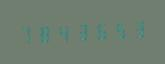eight: (35, 22, 52, 45)
five: (107, 18, 124, 41)
four: (53, 21, 70, 44)
seven: (17, 23, 34, 46)
six: (89, 19, 106, 42)
three: (71, 20, 88, 43), (125, 17, 142, 40)
